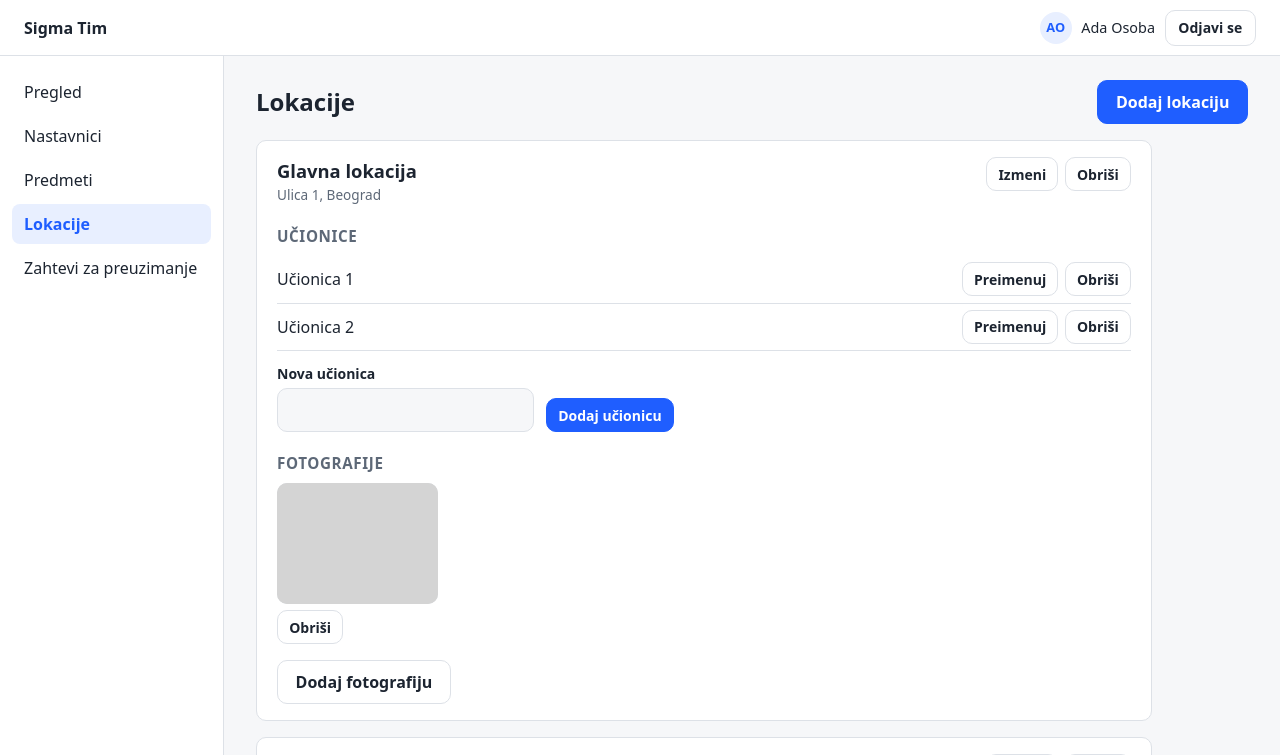
Test: locations › needs a name and an address
Click the button "Dodaj lokaciju": (1173, 102) [1097,80,1248,124]
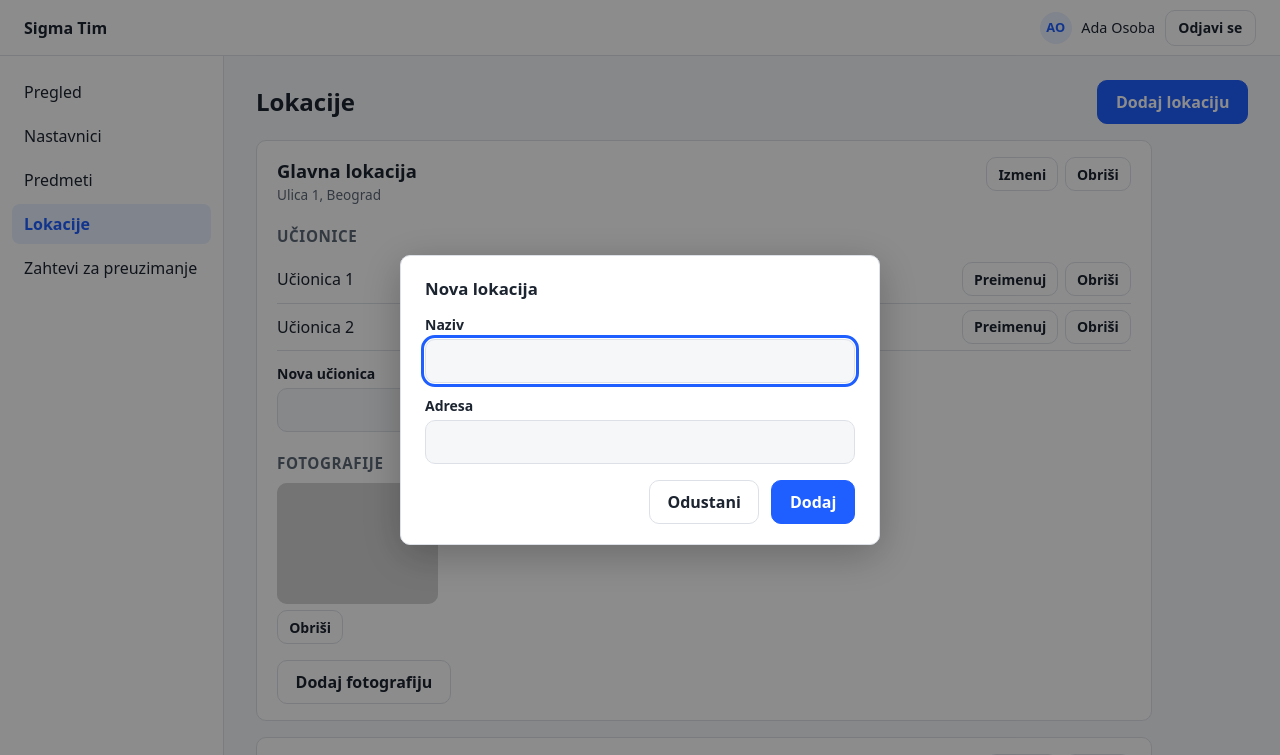
Click the button "Dodaj": (813, 502) [771,480,855,524]
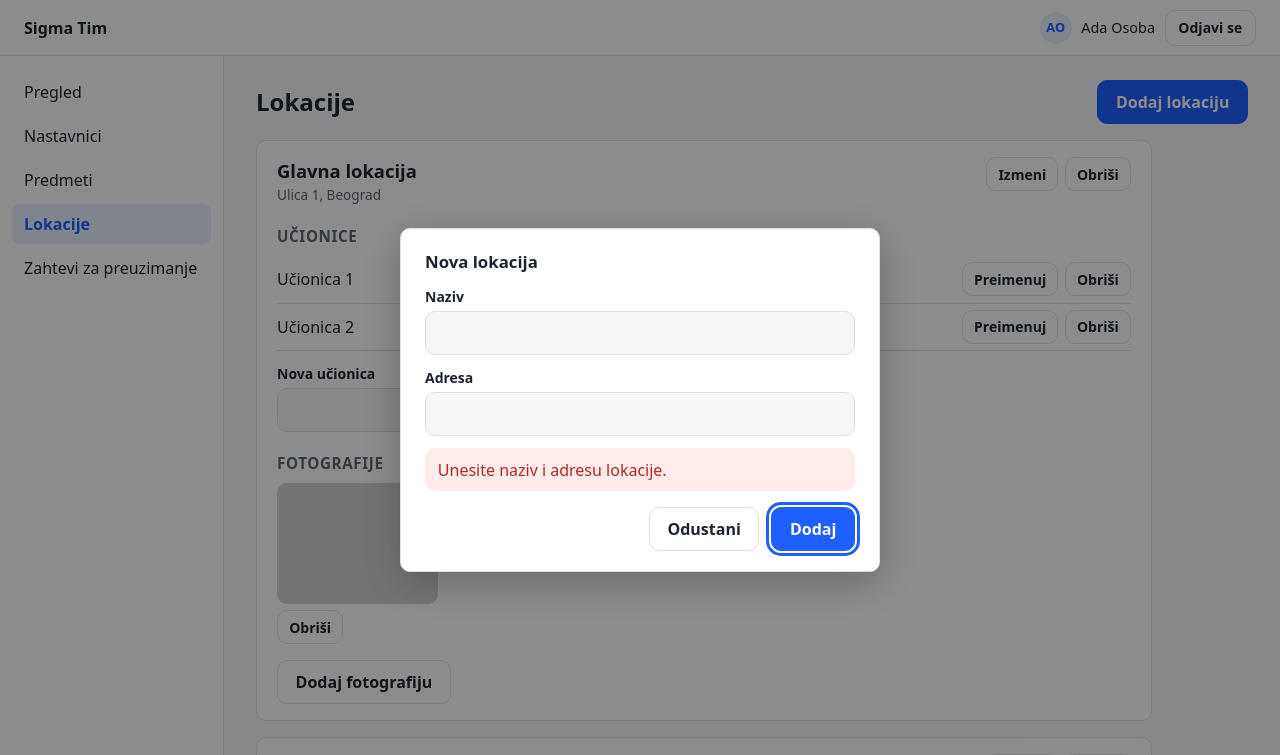
Now the text "Unesite naziv i adresu lokacije." is shown, box [425,448,855,491]
